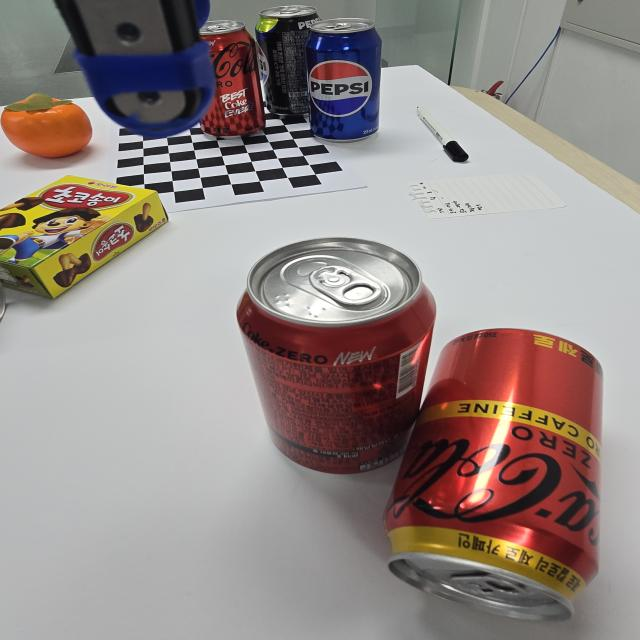can_coke_decaf: (380, 328, 603, 608)
can_coke_zero: (238, 243, 439, 478)
can_pepsi: (305, 15, 387, 139)
